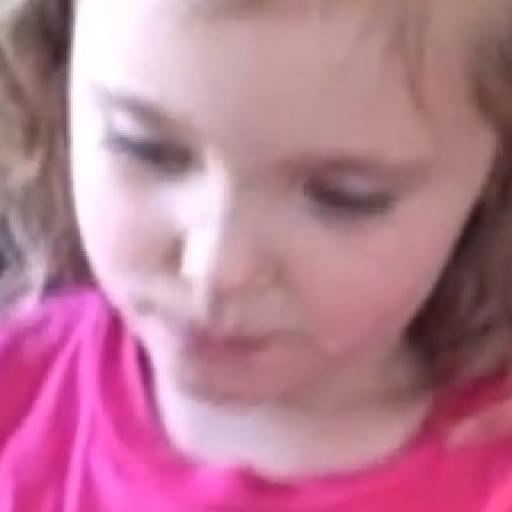Autism: (18, 13, 512, 512)
